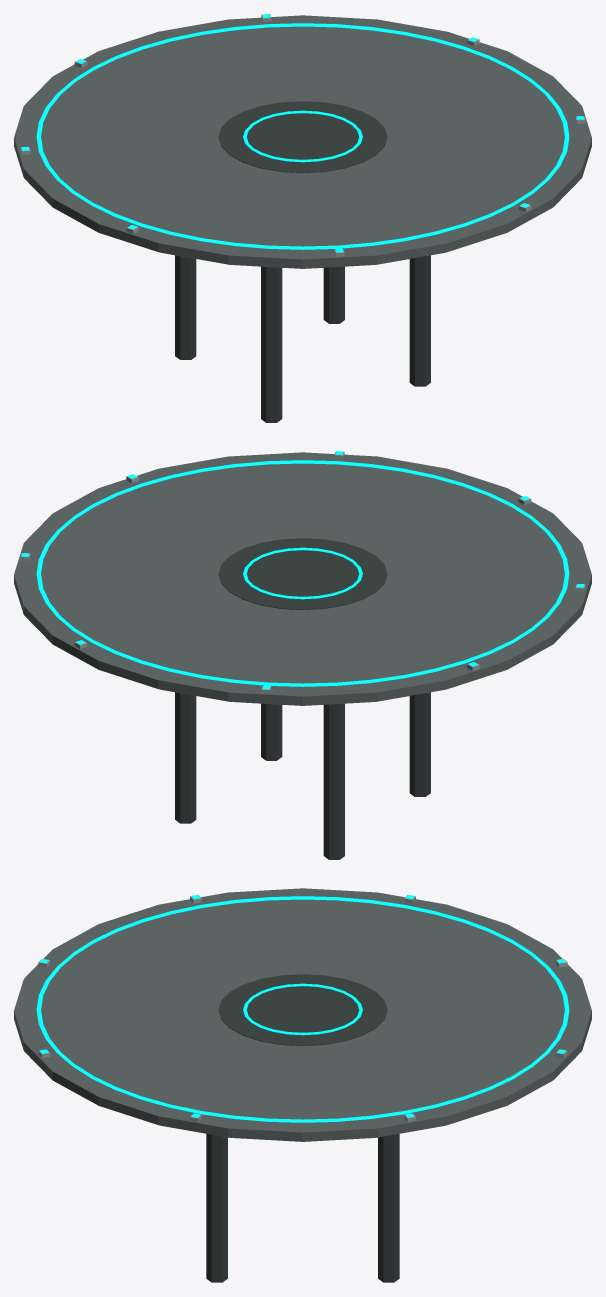
Rendered from plataforma-base.glb.
The picture shows the model from 3 angles, top to bottom: view 1: azimuth 30°, elevation 25°; view 2: azimuth 150°, elevation 25°; view 3: azimuth 270°, elevation 25°; orthographic projection.
Visible parts, largest first — view 1: plataforma-base; view 2: plataforma-base; view 3: plataforma-base.
Boxes of the visible parts, left/top/right/bottom form: plataforma-base: left=14, top=14, right=591, bottom=422; plataforma-base: left=14, top=451, right=591, bottom=859; plataforma-base: left=14, top=888, right=591, bottom=1282.
Size of the model in its own units: 140 by 63.23 by 140.
